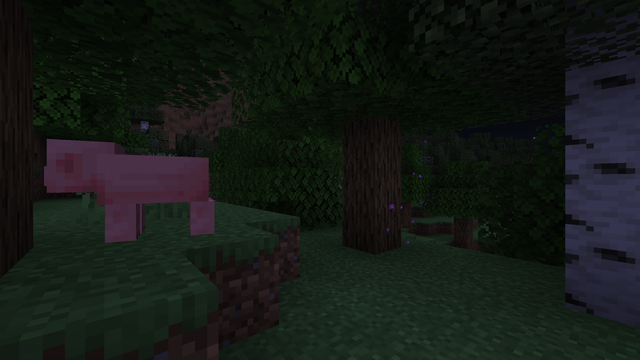cochons: (109, 149, 211, 246)
